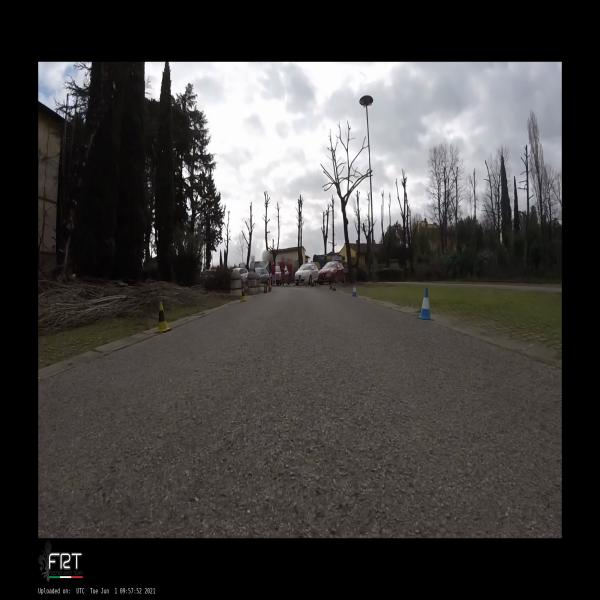blue_cone: (417, 288, 434, 320), (351, 284, 357, 297)
large_orange_cone: (332, 282, 335, 290), (270, 280, 272, 290)
unknown_cone: (264, 284, 267, 293), (330, 283, 332, 289), (269, 286, 270, 292)
yellow_cone: (154, 301, 171, 332), (240, 288, 247, 301)
